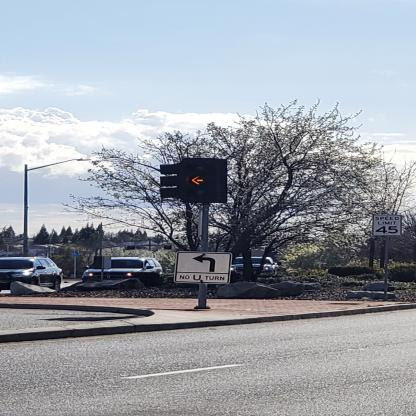left-yellow: (185, 158, 217, 201)
